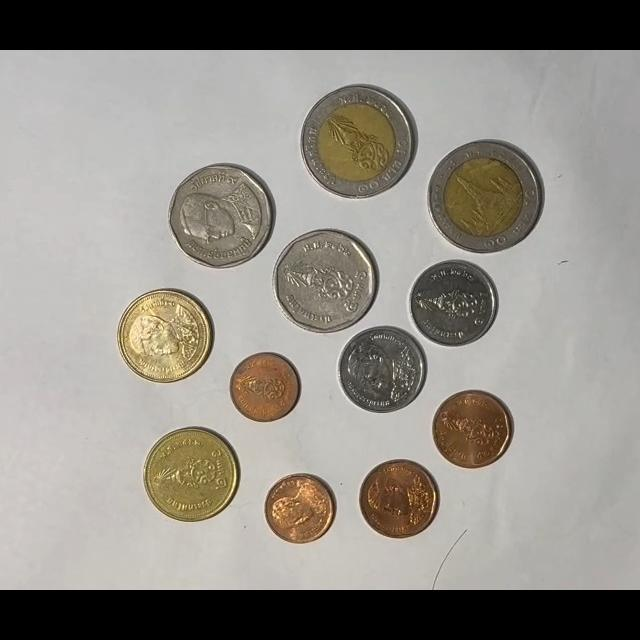1-baht: (408, 259, 499, 347), (337, 325, 426, 414)
10-baht: (300, 84, 417, 201), (427, 139, 543, 253)
2-baht: (143, 427, 240, 523), (117, 288, 212, 384)
25-satang: (264, 473, 336, 545), (229, 352, 300, 422)
5-baht: (273, 228, 378, 334), (169, 163, 274, 269)
50-satang: (358, 459, 440, 540), (432, 390, 513, 469)
